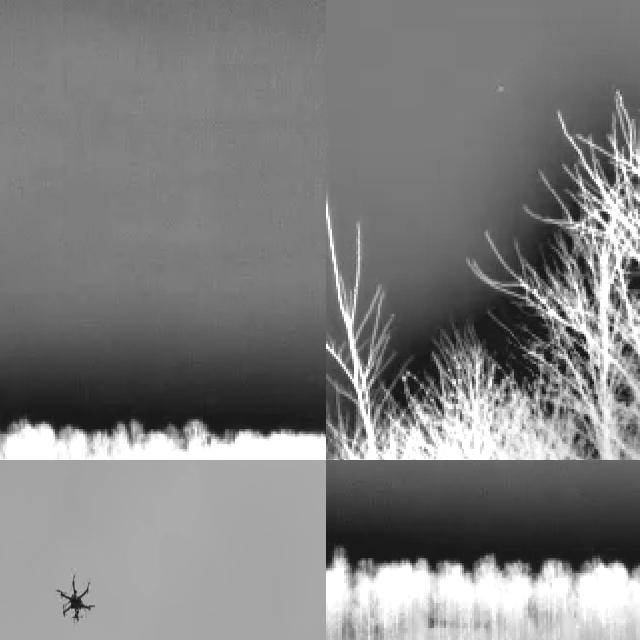0: (483, 76, 511, 106)
drone: (55, 575, 96, 628)
